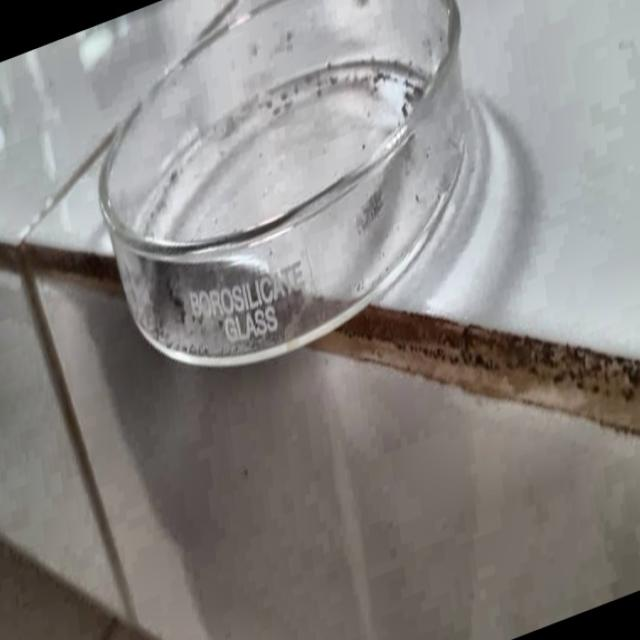Pedrish: (64, 0, 497, 420)
